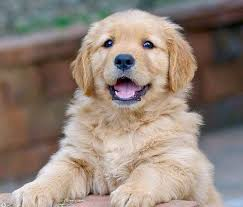Golden Retriever: (16, 5, 232, 203)
